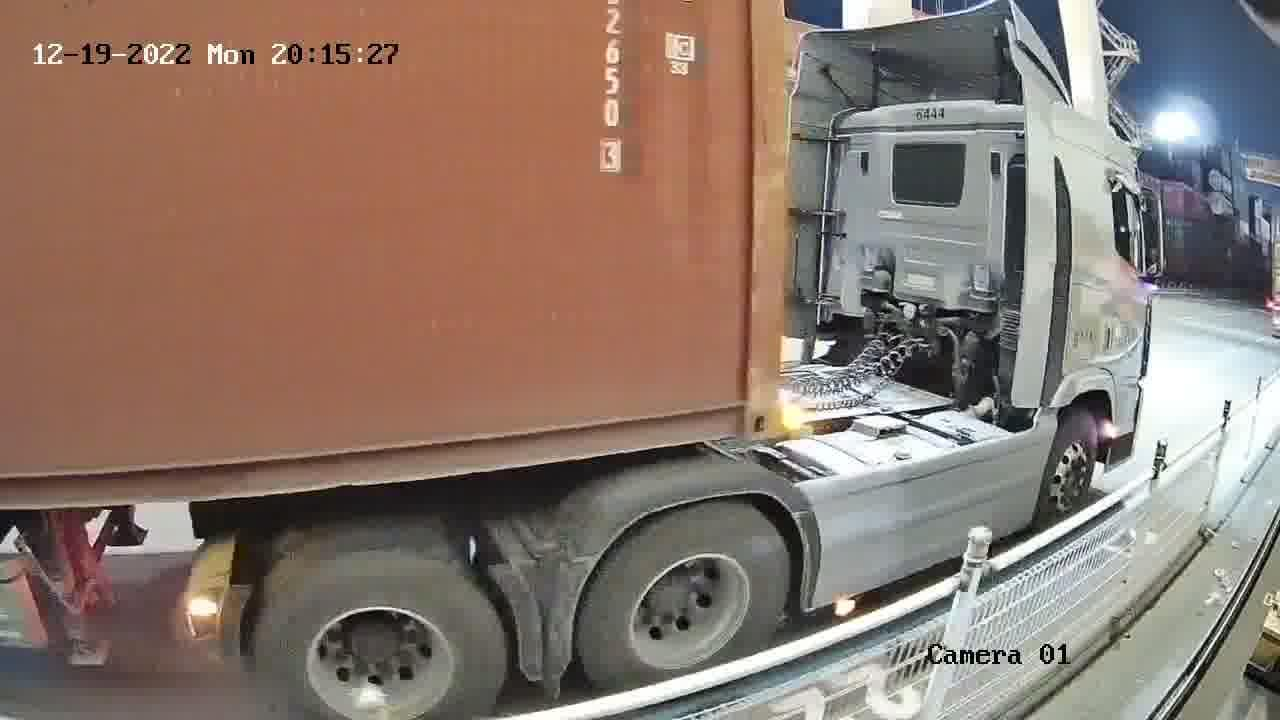Hole_R: (702, 371, 781, 440)
Tire: (253, 542, 508, 719), (575, 508, 791, 689)
